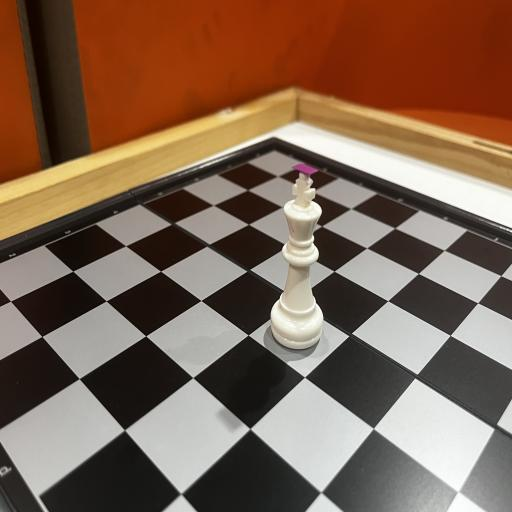White king: (270, 164, 324, 348)
